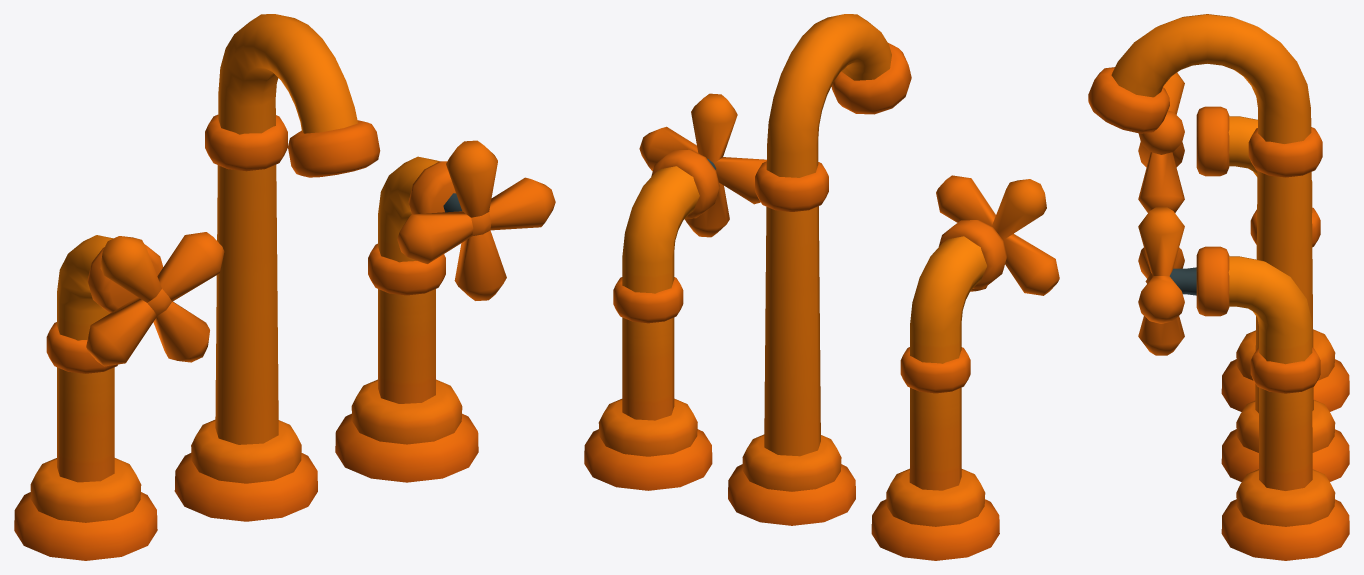
The model's file is Mixer_05.glb.
The picture shows the model from 3 angles, left to right: view 1: azimuth 30°, elevation 25°; view 2: azimuth 150°, elevation 25°; view 3: azimuth 270°, elevation 25°; orthographic projection. The views are drawn at different scales.
Visible parts, largest first — view 1: Mixer_05; view 2: Mixer_05; view 3: Mixer_05.
Part boxes in pixels (<box>): Mixer_05: <box>14,14,555,560</box>; Mixer_05: <box>584,14,1059,560</box>; Mixer_05: <box>1088,14,1349,560</box>.
Bounding box in the file's own units: 0.3988 × 0.4157 × 0.2196.
Materials: 1 (1 with a texture image).
